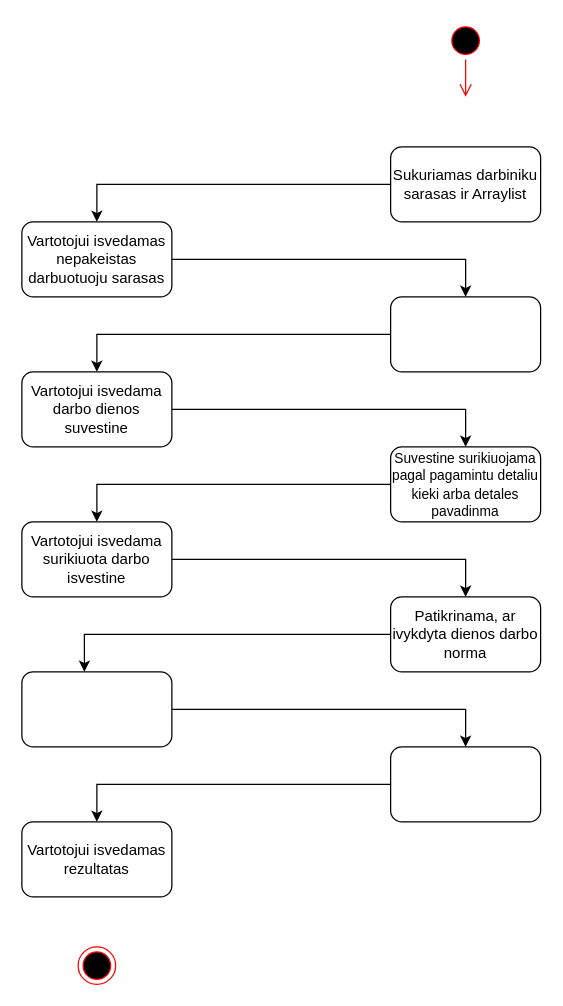
This 563x1006 diagram has some shape labels left out. Each missing label, with the centre of its shape:
"Apskaiciuojama darbo dienos suvestine" belongs at pixel 465 334.
"Is saraso panaikinami zmones, kuriu detales vertos ne daugiau 100e" belongs at pixel 465 784.
"Vartotojui isvedamas darbininku sarasas ir parodomas normos ivykdymas" belongs at pixel 96 709.
